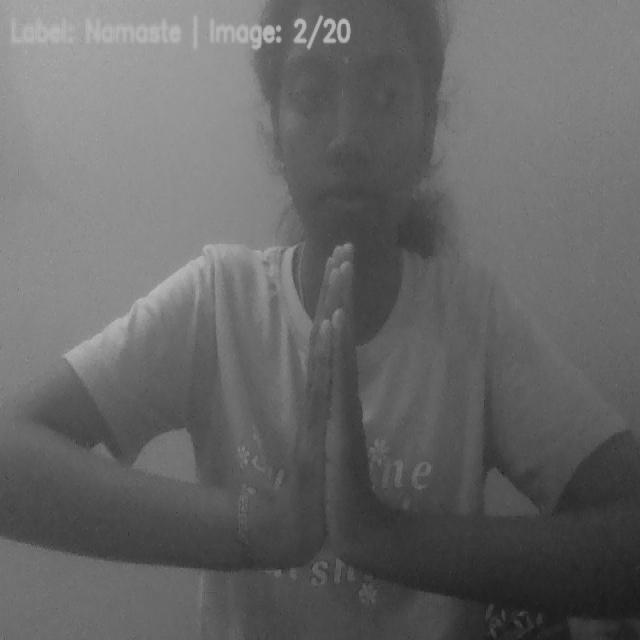Namaste: (272, 234, 385, 572)
